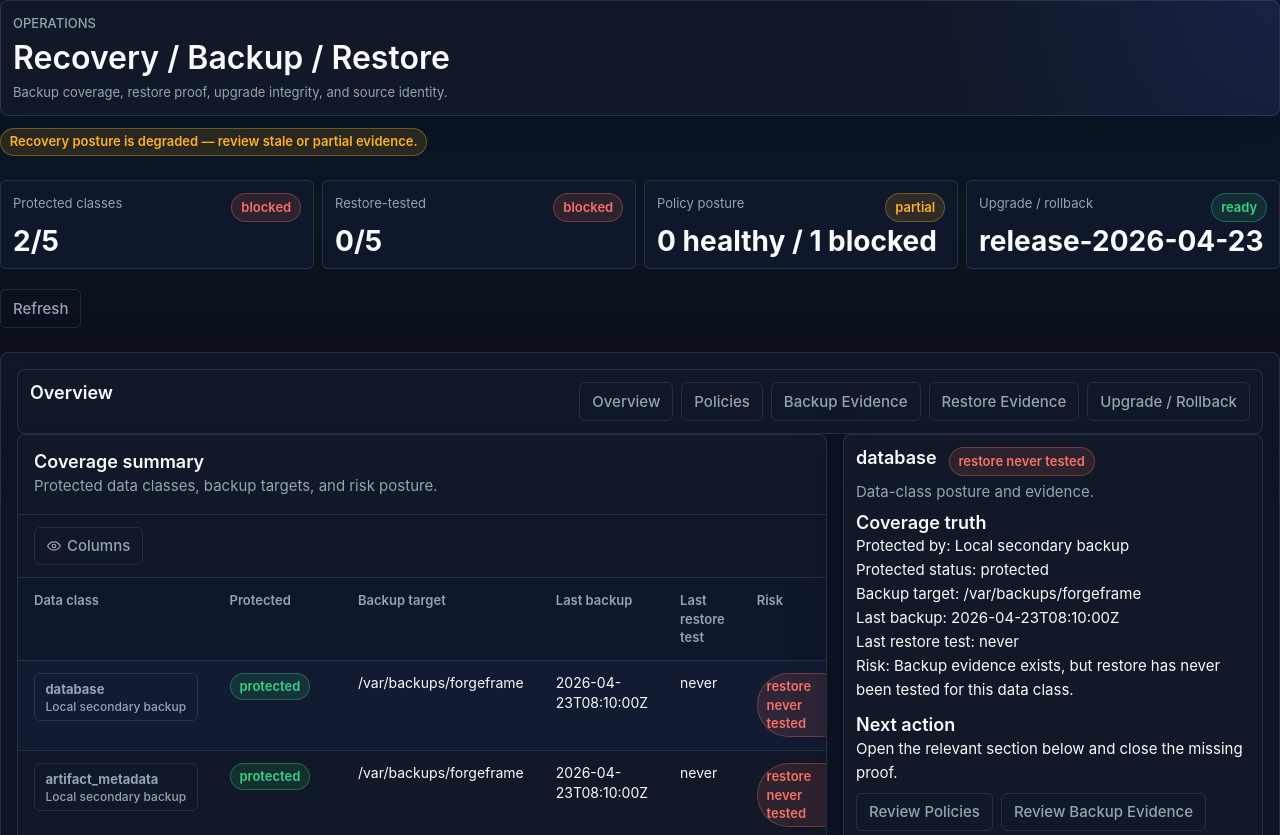
Recovery page › keeps backup-only coverage blocked until restore evidence exists
Click the button "Restore Evidence" at (1004, 402), box x1=928 y1=382 x2=1079 y2=421
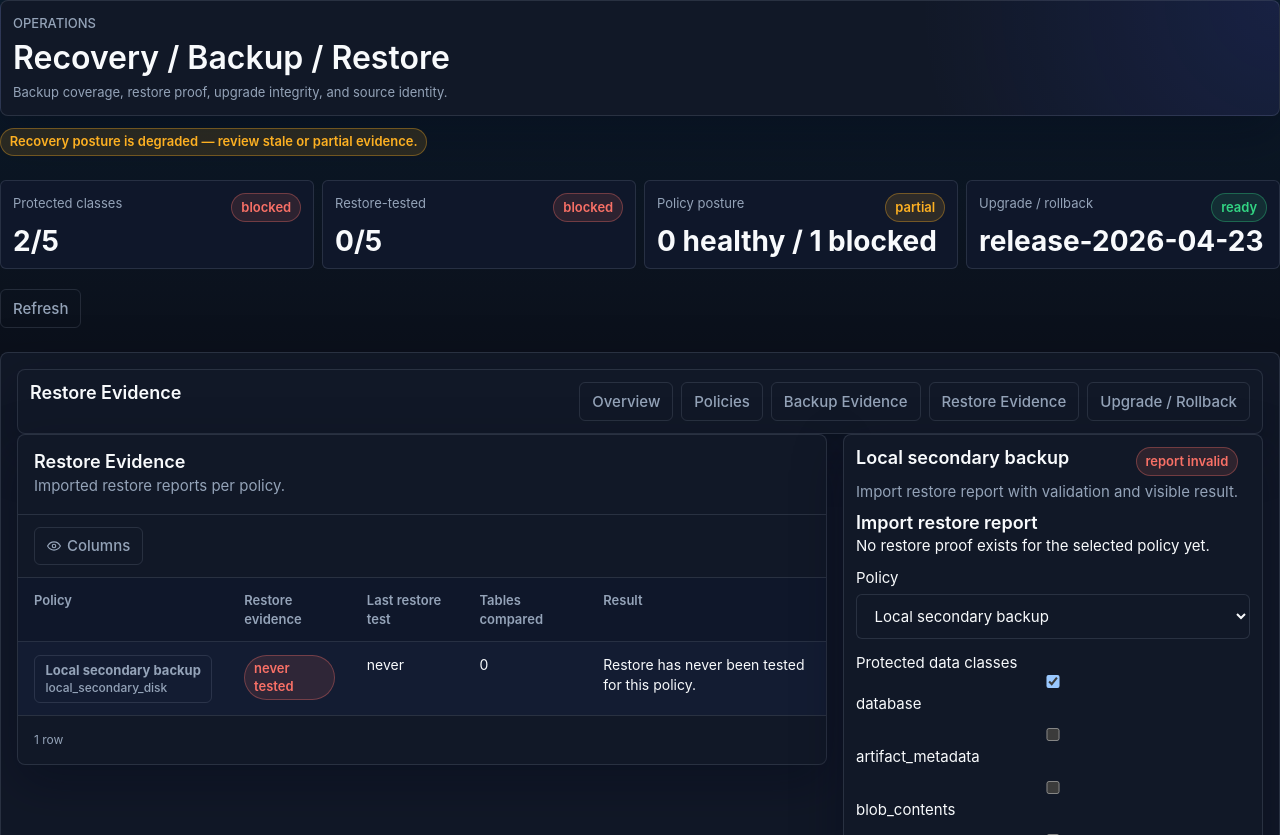
Expected: the text "never tested" is shown, x1=244 y1=655 x2=335 y2=700
Expected: the text "Restore has never been tested for this policy." is shown, x1=587 y1=642 x2=826 y2=715
